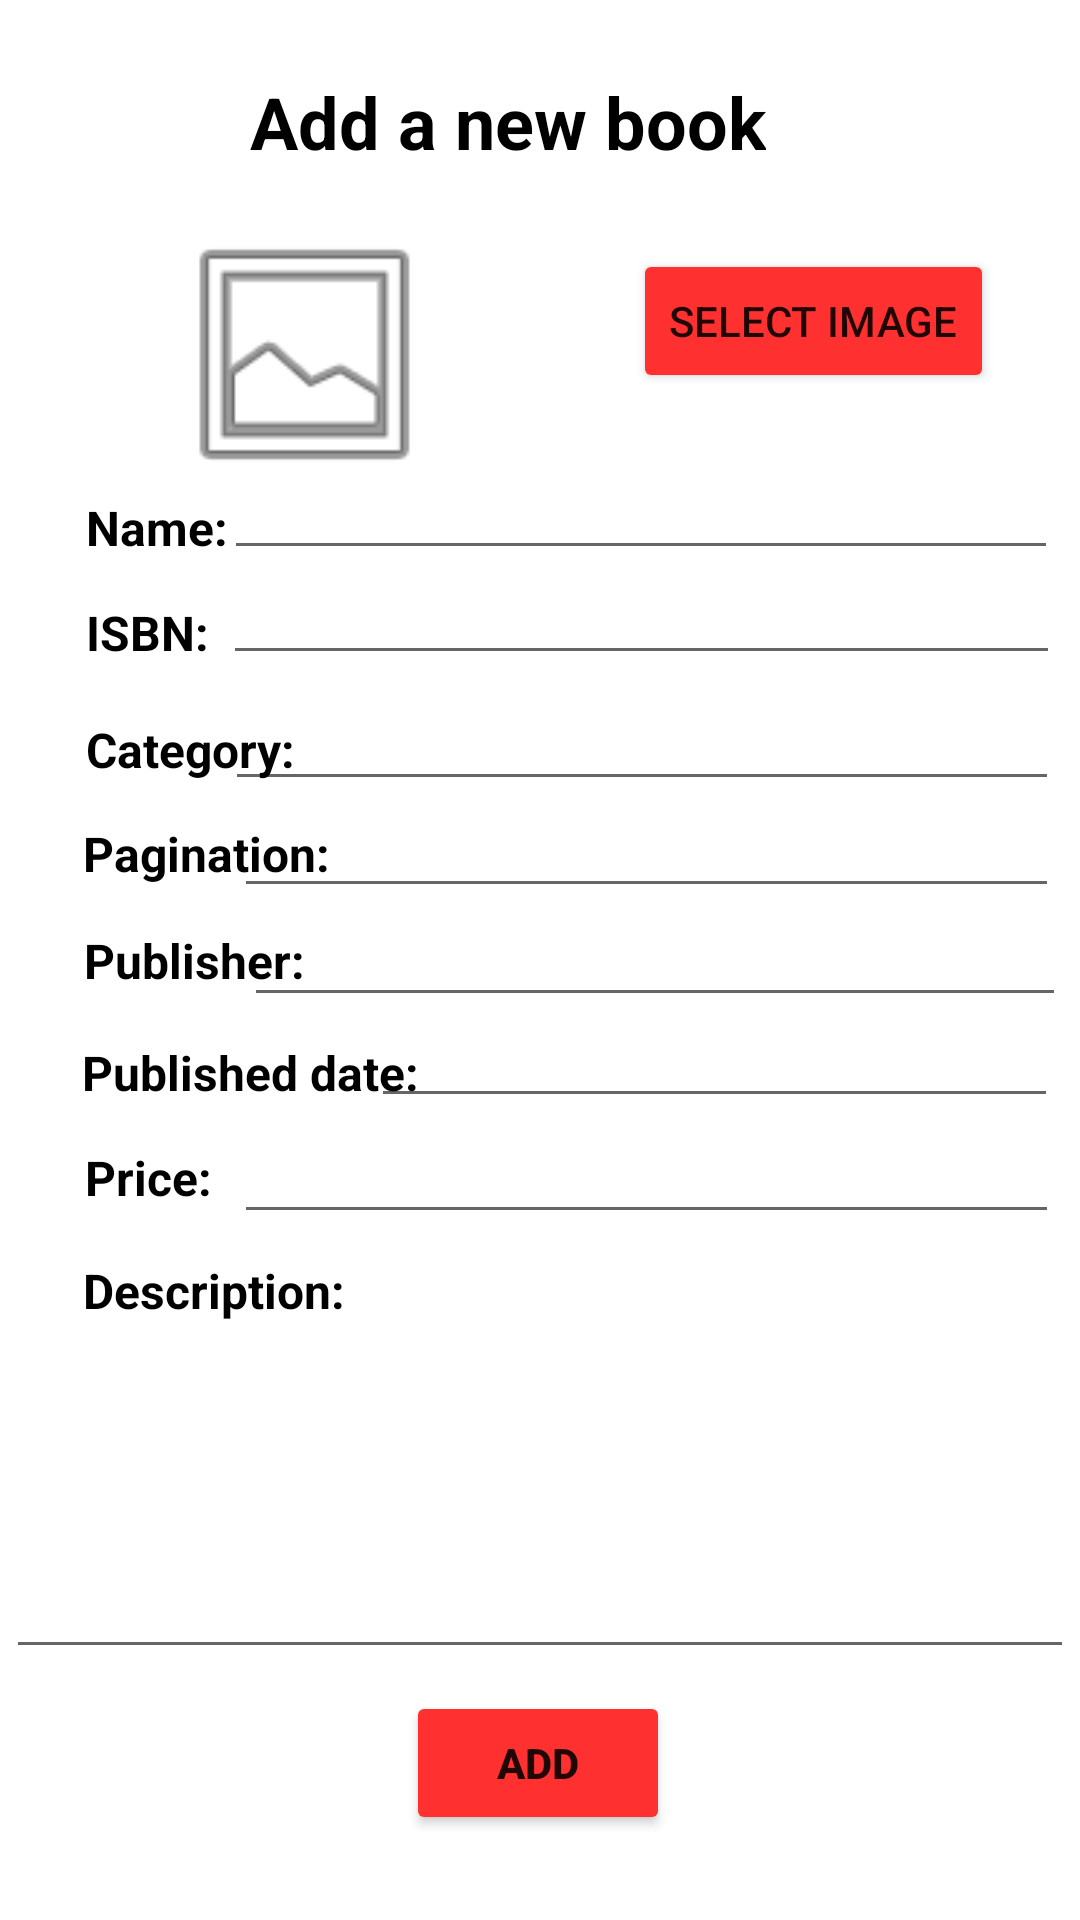

Where to tap for icons on this 1080 x 1920 app screen, as [x,y]:
gallery: [304,354]
